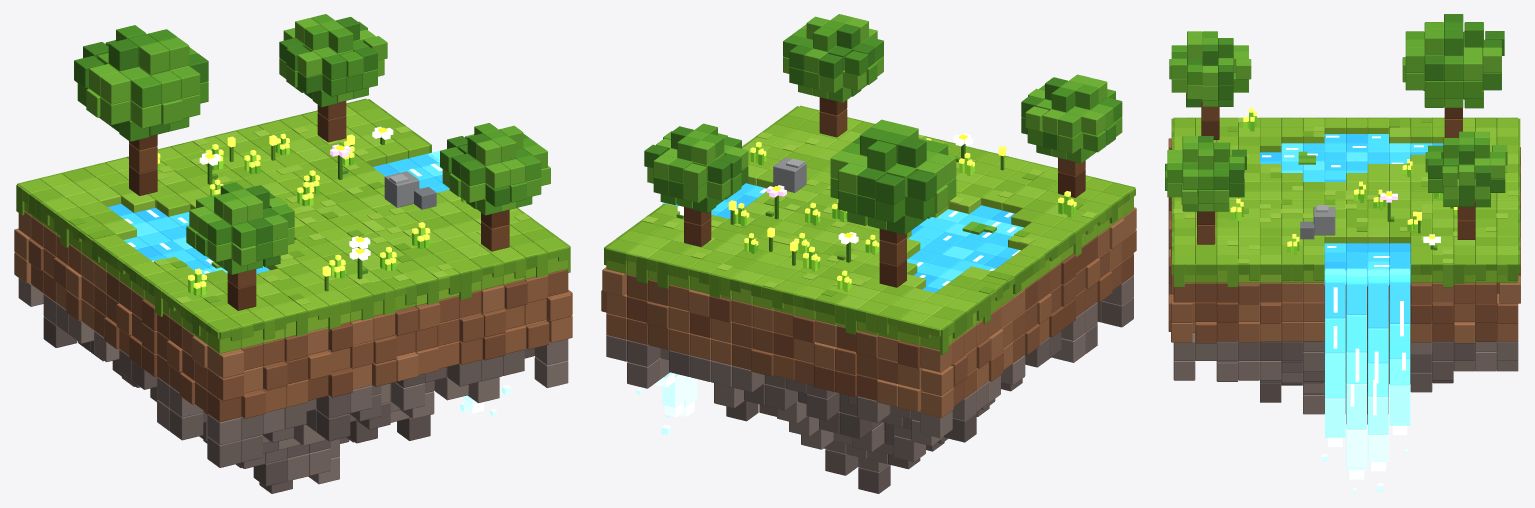
File: voxel_island_glow_1.glb
The picture shows the model from 3 angles, left to right: view 1: azimuth 30°, elevation 25°; view 2: azimuth 150°, elevation 25°; view 3: azimuth 270°, elevation 25°; orthographic projection. The views are drawn at different scales.
Parts seen in each view (by area): view 1: Rocks, Tree_Back.036, Tree_Back.033, Tree_Back.055, Tree_Back.054, Stone.138, Stone, Stone.003, Stone.001, Stone.598, Stone.368, Dirt.002 (+27 smaller); view 2: Rocks, Dirt.046, Tree_Back.035, Tree_Back.040, Tree_Back.054, Tree_Back.057, Dirt.047, Stone.001, Stone.247, Stone.283, Stone.596, Dirt.045 (+21 smaller); view 3: Waterfall.019, Waterfall.003, Waterfall.012, Waterfall.031, Waterfall.028, Waterfall.004, Waterfall.013, Waterfall.010, Waterfall.001, Waterfall.022, Waterfall.020, Waterfall.029 (+74 smaller).
Part boxes in pixels (x1,y1,x2,y2): Rocks: (384,171,419,207); Tree_Back.036: (131,75,161,108); Tree_Back.033: (100,72,130,104); Tree_Back.055: (139,42,169,74); Tree_Back.054: (108,38,138,71); Stone.138: (316,410,350,441); Stone: (207,414,241,444); Stone.003: (169,409,203,440); Stone.001: (207,437,241,467); Stone.598: (534,357,568,387); Stone.368: (391,382,424,410); Dirt.002: (207,391,241,422); Rocks: (773,157,806,192); Dirt.046: (921,365,953,395); Tree_Back.035: (907,170,936,201); Tree_Back.040: (875,173,904,204); Tree_Back.054: (897,136,926,167); Tree_Back.057: (867,140,896,171); Dirt.047: (921,388,953,417); Stone.001: (1101,297,1133,327); Stone.247: (806,392,838,420); Stone.283: (858,464,890,493); Stone.596: (627,359,659,388); Dirt.045: (920,342,952,372); Waterfall.019: (1368,280,1388,328); Waterfall.003: (1325,353,1345,398); Waterfall.012: (1346,383,1366,429); Waterfall.031: (1389,385,1410,425); Waterfall.028: (1389,279,1410,323); Waterfall.004: (1325,397,1345,437); Waterfall.013: (1346,428,1366,468); Waterfall.010: (1346,314,1366,352); Waterfall.001: (1325,279,1345,318); Waterfall.022: (1368,396,1388,434); Waterfall.020: (1368,328,1388,363); Waterfall.029: (1389,323,1410,359).
Bounding box in the file's own units: 17.62 × 18.58 × 16.52.
